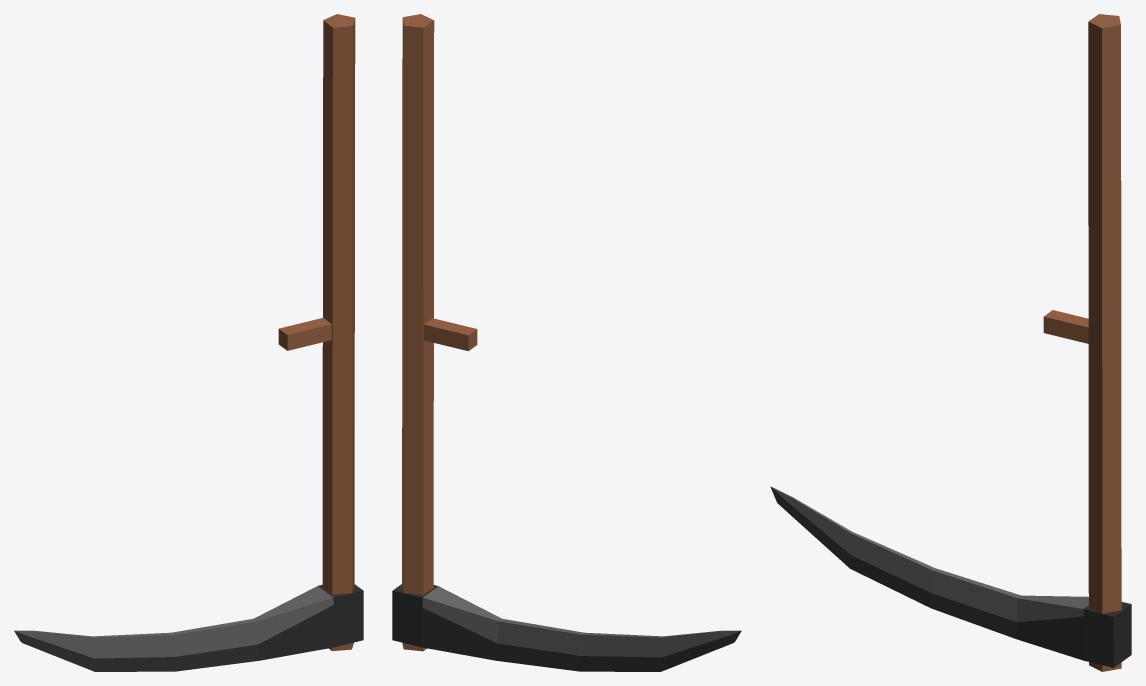
File: scythe.fbx
3 renders of one model, left to right at view 1: azimuth 30°, elevation 25°; view 2: azimuth 150°, elevation 25°; view 3: azimuth 330°, elevation 25°, orthographic. The views are drawn at different scales.
Parts seen in each view (by area): view 1: scythe; view 2: scythe; view 3: scythe.
Boxes of the visible parts, x1,y1,x2,y2 form: scythe: (14,14,363,671); scythe: (392,14,741,671); scythe: (770,14,1131,671).
Size of the model in its own units: 43.21 by 75.55 by 3.83.
